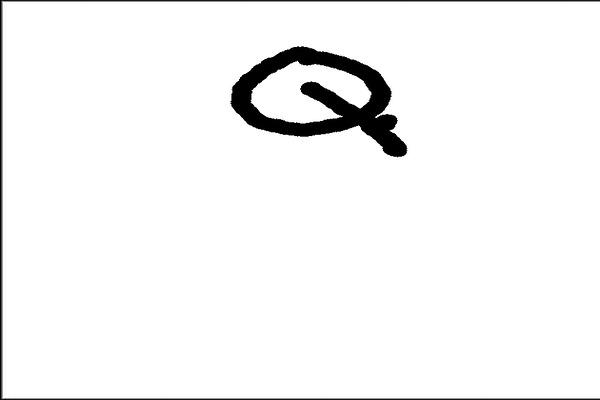Q: (216, 27, 412, 165)
